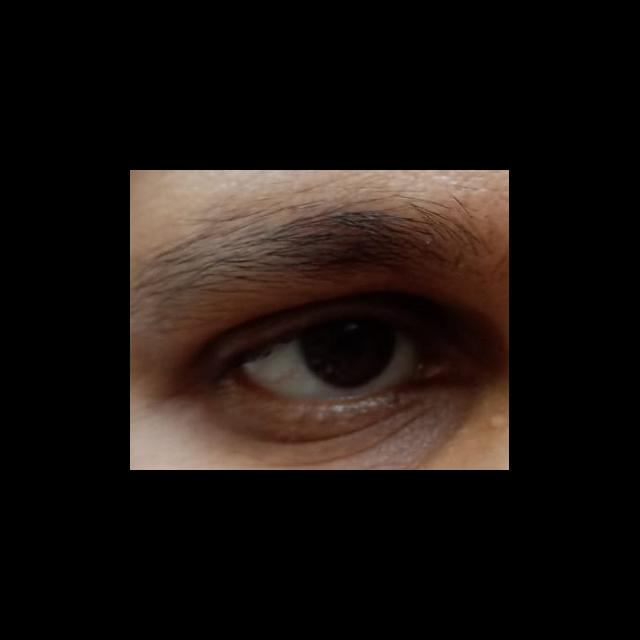eye: (241, 315, 421, 402)
iris: (299, 319, 398, 386)
